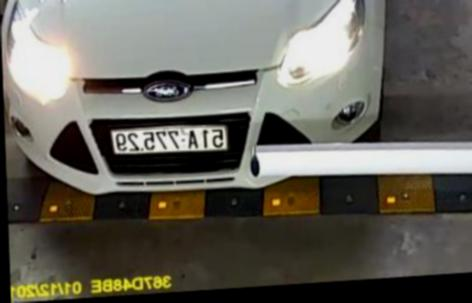License_Plate: (109, 119, 228, 160)
